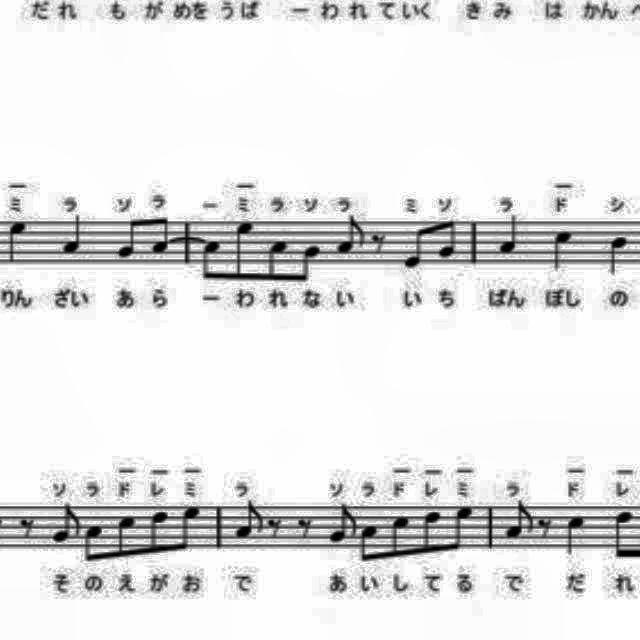Eighth-note: (233, 218, 259, 288), (502, 496, 538, 544), (50, 501, 84, 547), (328, 500, 360, 548), (336, 210, 368, 256), (451, 500, 477, 556), (610, 508, 636, 564), (233, 498, 265, 542), (146, 507, 170, 561), (196, 239, 224, 285), (178, 503, 202, 555), (114, 512, 138, 564), (115, 216, 143, 260), (82, 520, 106, 570), (266, 236, 290, 284), (404, 226, 428, 274), (358, 521, 382, 569), (435, 217, 459, 263), (386, 512, 409, 560), (298, 242, 322, 286), (146, 214, 170, 258), (422, 509, 442, 559)
Eighth-rest: (12, 506, 40, 546), (368, 228, 392, 264), (536, 508, 556, 544), (262, 516, 286, 544), (295, 512, 315, 542)
Quarter-note: (601, 228, 631, 278), (56, 216, 92, 256), (497, 211, 523, 261), (562, 511, 588, 557), (7, 214, 29, 266), (551, 224, 573, 276)
